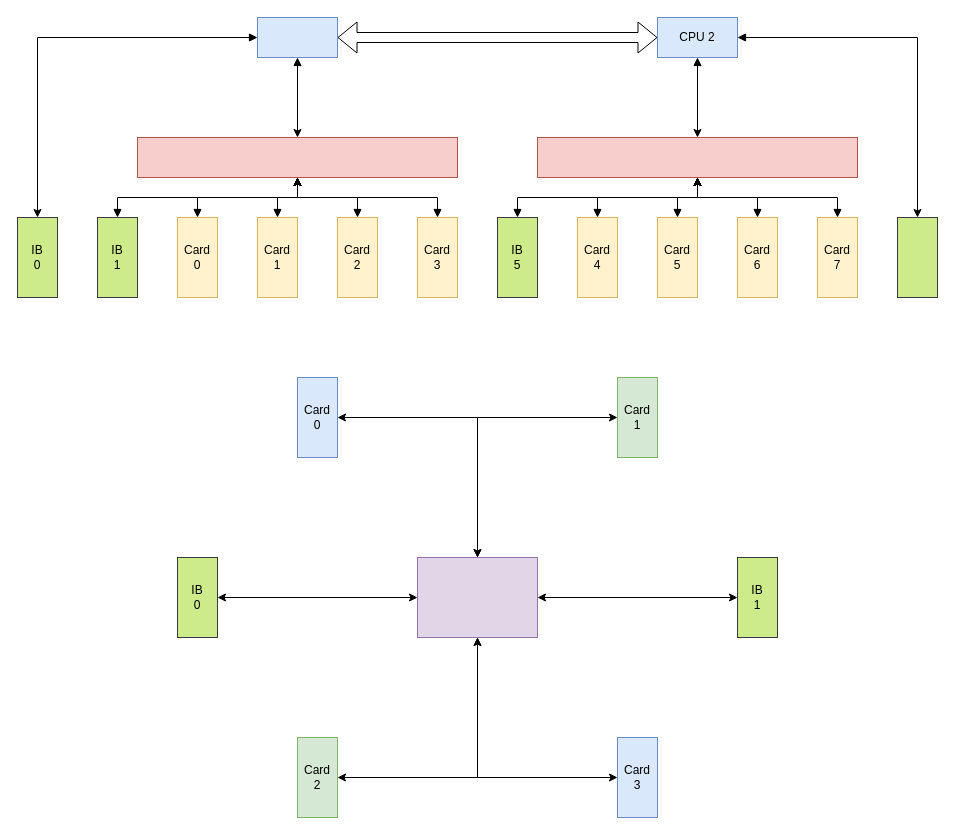
Image size: 955x835. Some labels were removed from this diagram. Each missing label, with the centre of its shape:
"CPU 1" goes at point 297,37.
"IB 4" goes at point 917,257.
"PCIE SWITCH 1" goes at point 297,157.
"PCIE SWITCH 2" goes at point 697,157.
"PCIE SWITCH NUMA 0" goes at point 477,597.
